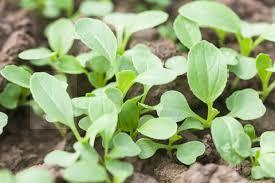Healthy-Pechay: (77, 72, 137, 151), (67, 9, 127, 75), (207, 89, 255, 163), (119, 40, 189, 88), (185, 43, 229, 107), (134, 92, 194, 138), (34, 66, 75, 127), (182, 1, 253, 36), (66, 150, 109, 183)
